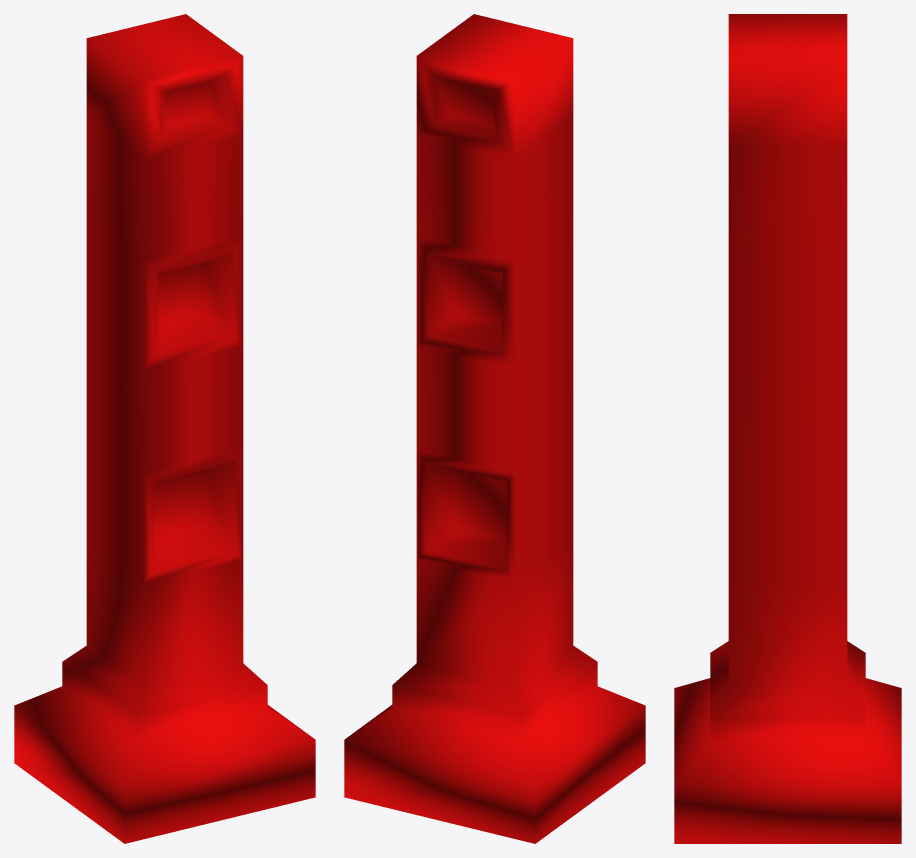
File: mdl_Corredor_Torre_luz.fbx
3 views of the same model, side by side, from view 1: azimuth 30°, elevation 25°; view 2: azimuth 150°, elevation 25°; view 3: azimuth 270°, elevation 25° (orthographic). The views are drawn at different scales.
Visible parts, largest first — view 1: mdl_Corredor_Torre_luz; view 2: mdl_Corredor_Torre_luz; view 3: mdl_Corredor_Torre_luz.
Part boxes in pixels (x1=…): mdl_Corredor_Torre_luz: x1=14, y1=14, x2=315, y2=843; mdl_Corredor_Torre_luz: x1=344, y1=14, x2=645, y2=843; mdl_Corredor_Torre_luz: x1=674, y1=14, x2=901, y2=843.
Bounding box in the file's own units: 1.92 × 7.04 × 1.92.
